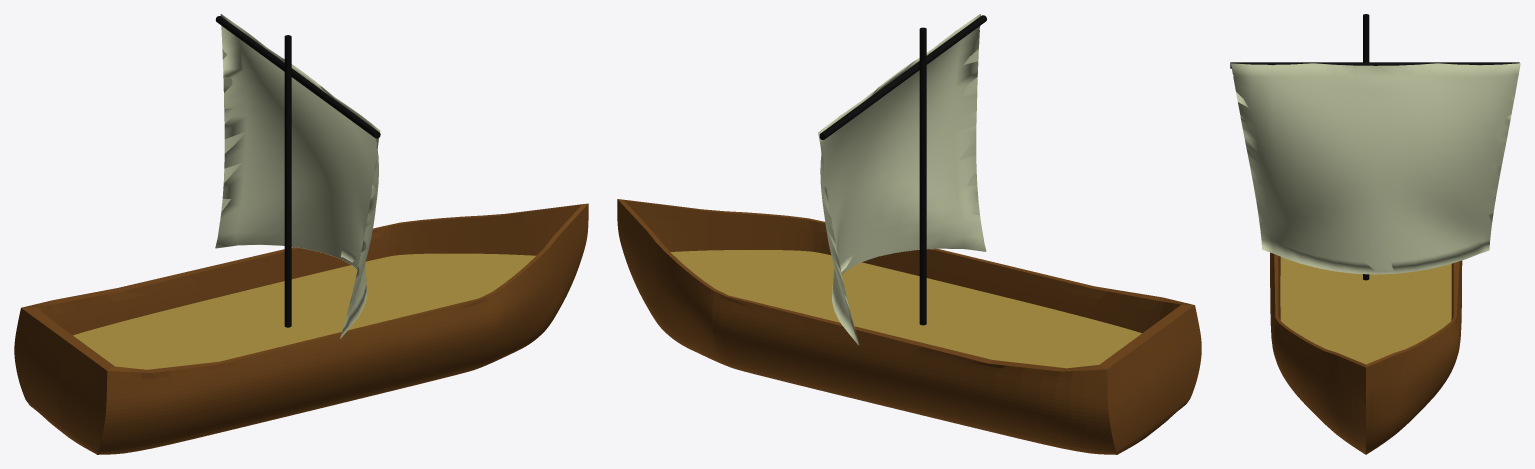
File: PARUS-untitled.fbx
3 views of the same model, side by side, from view 1: azimuth 30°, elevation 25°; view 2: azimuth 150°, elevation 25°; view 3: azimuth 270°, elevation 25° (orthographic). The views are drawn at different scales.
Parts seen in each view (by area): view 1: Куб, Плоскость.003; view 2: Куб, Плоскость.003; view 3: Плоскость.003, Куб.
Boxes of the visible parts, x1=… form: Куб: x1=14, y1=16, x2=588, y2=454; Плоскость.003: x1=215, y1=14, x2=380, y2=338; Куб: x1=617, y1=15, x2=1201, y2=454; Плоскость.003: x1=818, y1=14, x2=986, y2=345; Плоскость.003: x1=1231, y1=63, x2=1520, y2=274; Куб: x1=1230, y1=14, x2=1519, y2=454.
Size of the model in its own units: 2196 by 1473 by 1143.
